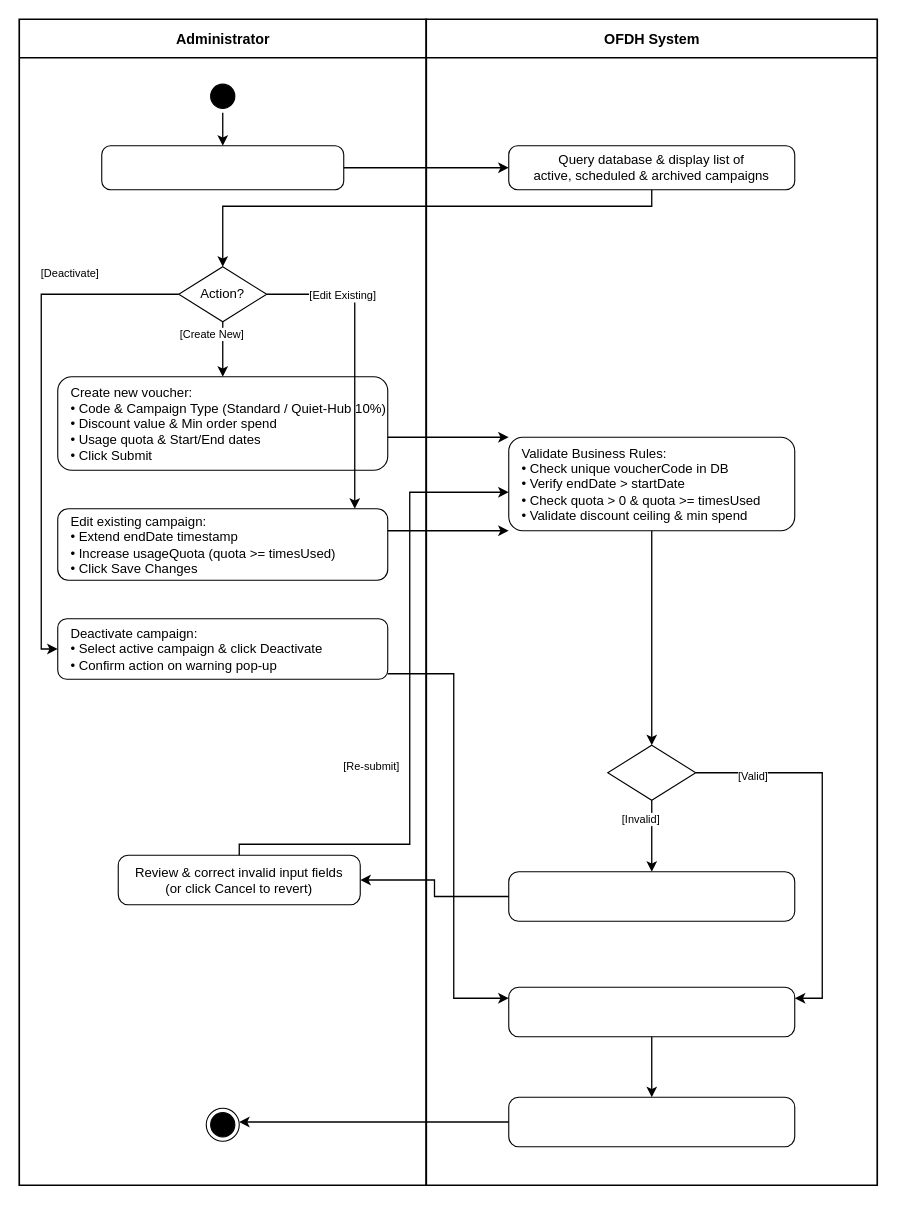
The diagram is 898 pixels wide and 1206 high, and some of its shapes have lost their labels. The shapes that lost their labels are listed below. From the top down, each one's centre as x and y in pixels, then its label:
the point at 222,167: Open Voucher Management Console
the point at 651,772: Valid?
the point at 651,896: Highlight invalid fields with error messages
the point at 651,1011: Persist Voucher record to database & write immutable administrative audit log
the point at 651,1121: Display success notification & refresh voucher campaign listings
